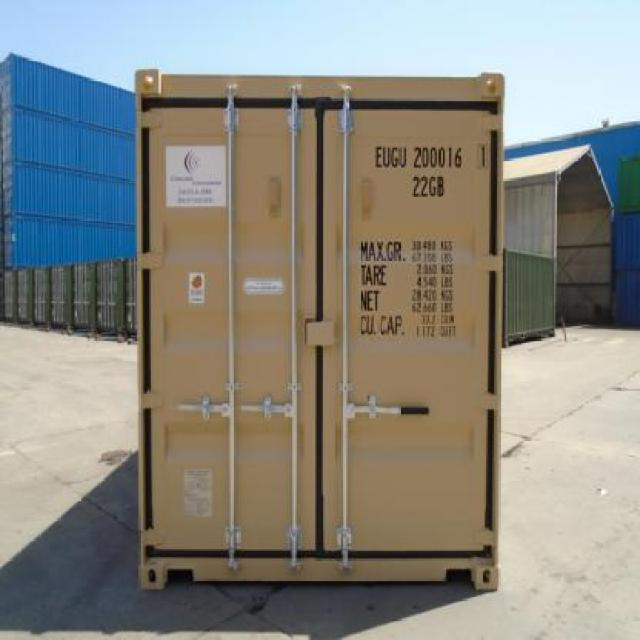ISO: (410, 173, 449, 197)
container_number: (371, 144, 496, 170)
